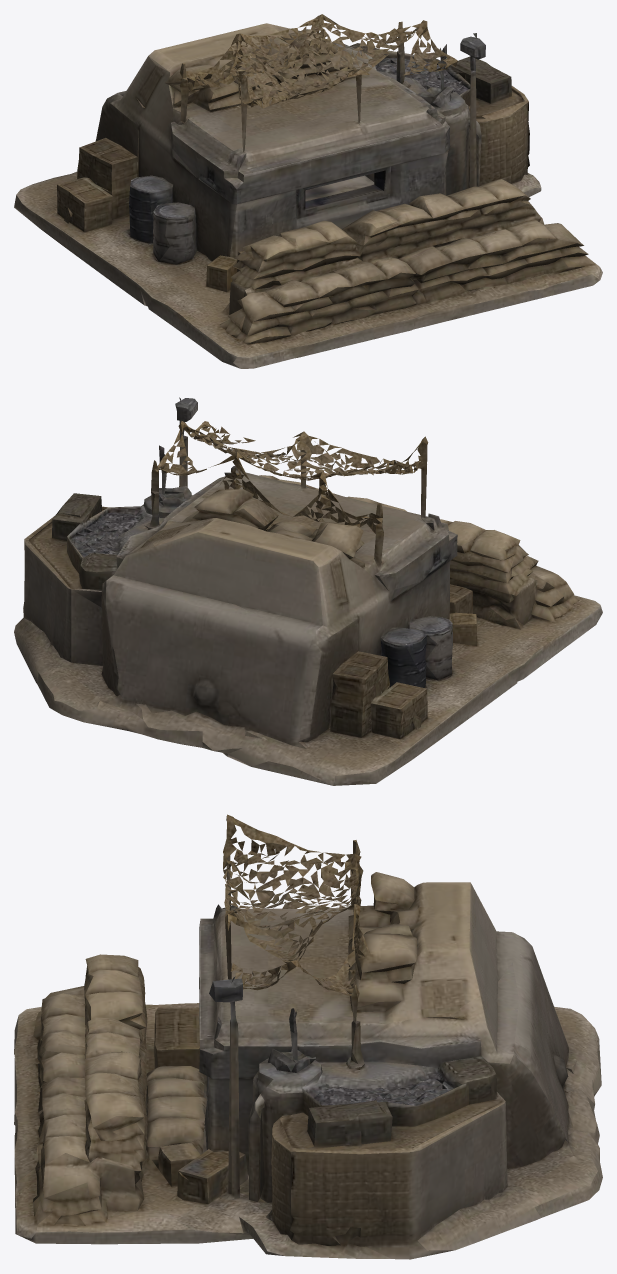
File: bunker_sandbag.glb
3 views of the same model, one above another, from view 1: azimuth 30°, elevation 25°; view 2: azimuth 150°, elevation 25°; view 3: azimuth 270°, elevation 25° (orthographic). The views are drawn at different scales.
Parts seen in each view (by area): view 1: bunker_sandbag; view 2: bunker_sandbag; view 3: bunker_sandbag.
Part boxes in pixels (x1=…): bunker_sandbag: x1=14, y1=14, x2=602, y2=368; bunker_sandbag: x1=14, y1=397, x2=602, y2=785; bunker_sandbag: x1=14, y1=814, x2=602, y2=1259.
Bounding box in the file's own units: 1.89 × 0.926 × 1.89.
Materials: 1 (1 with a texture image).
